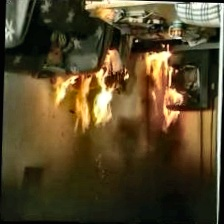fire: (45, 66, 185, 140)
